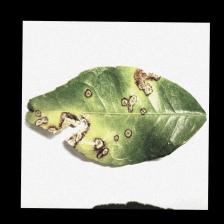canker: (23, 60, 169, 160)
